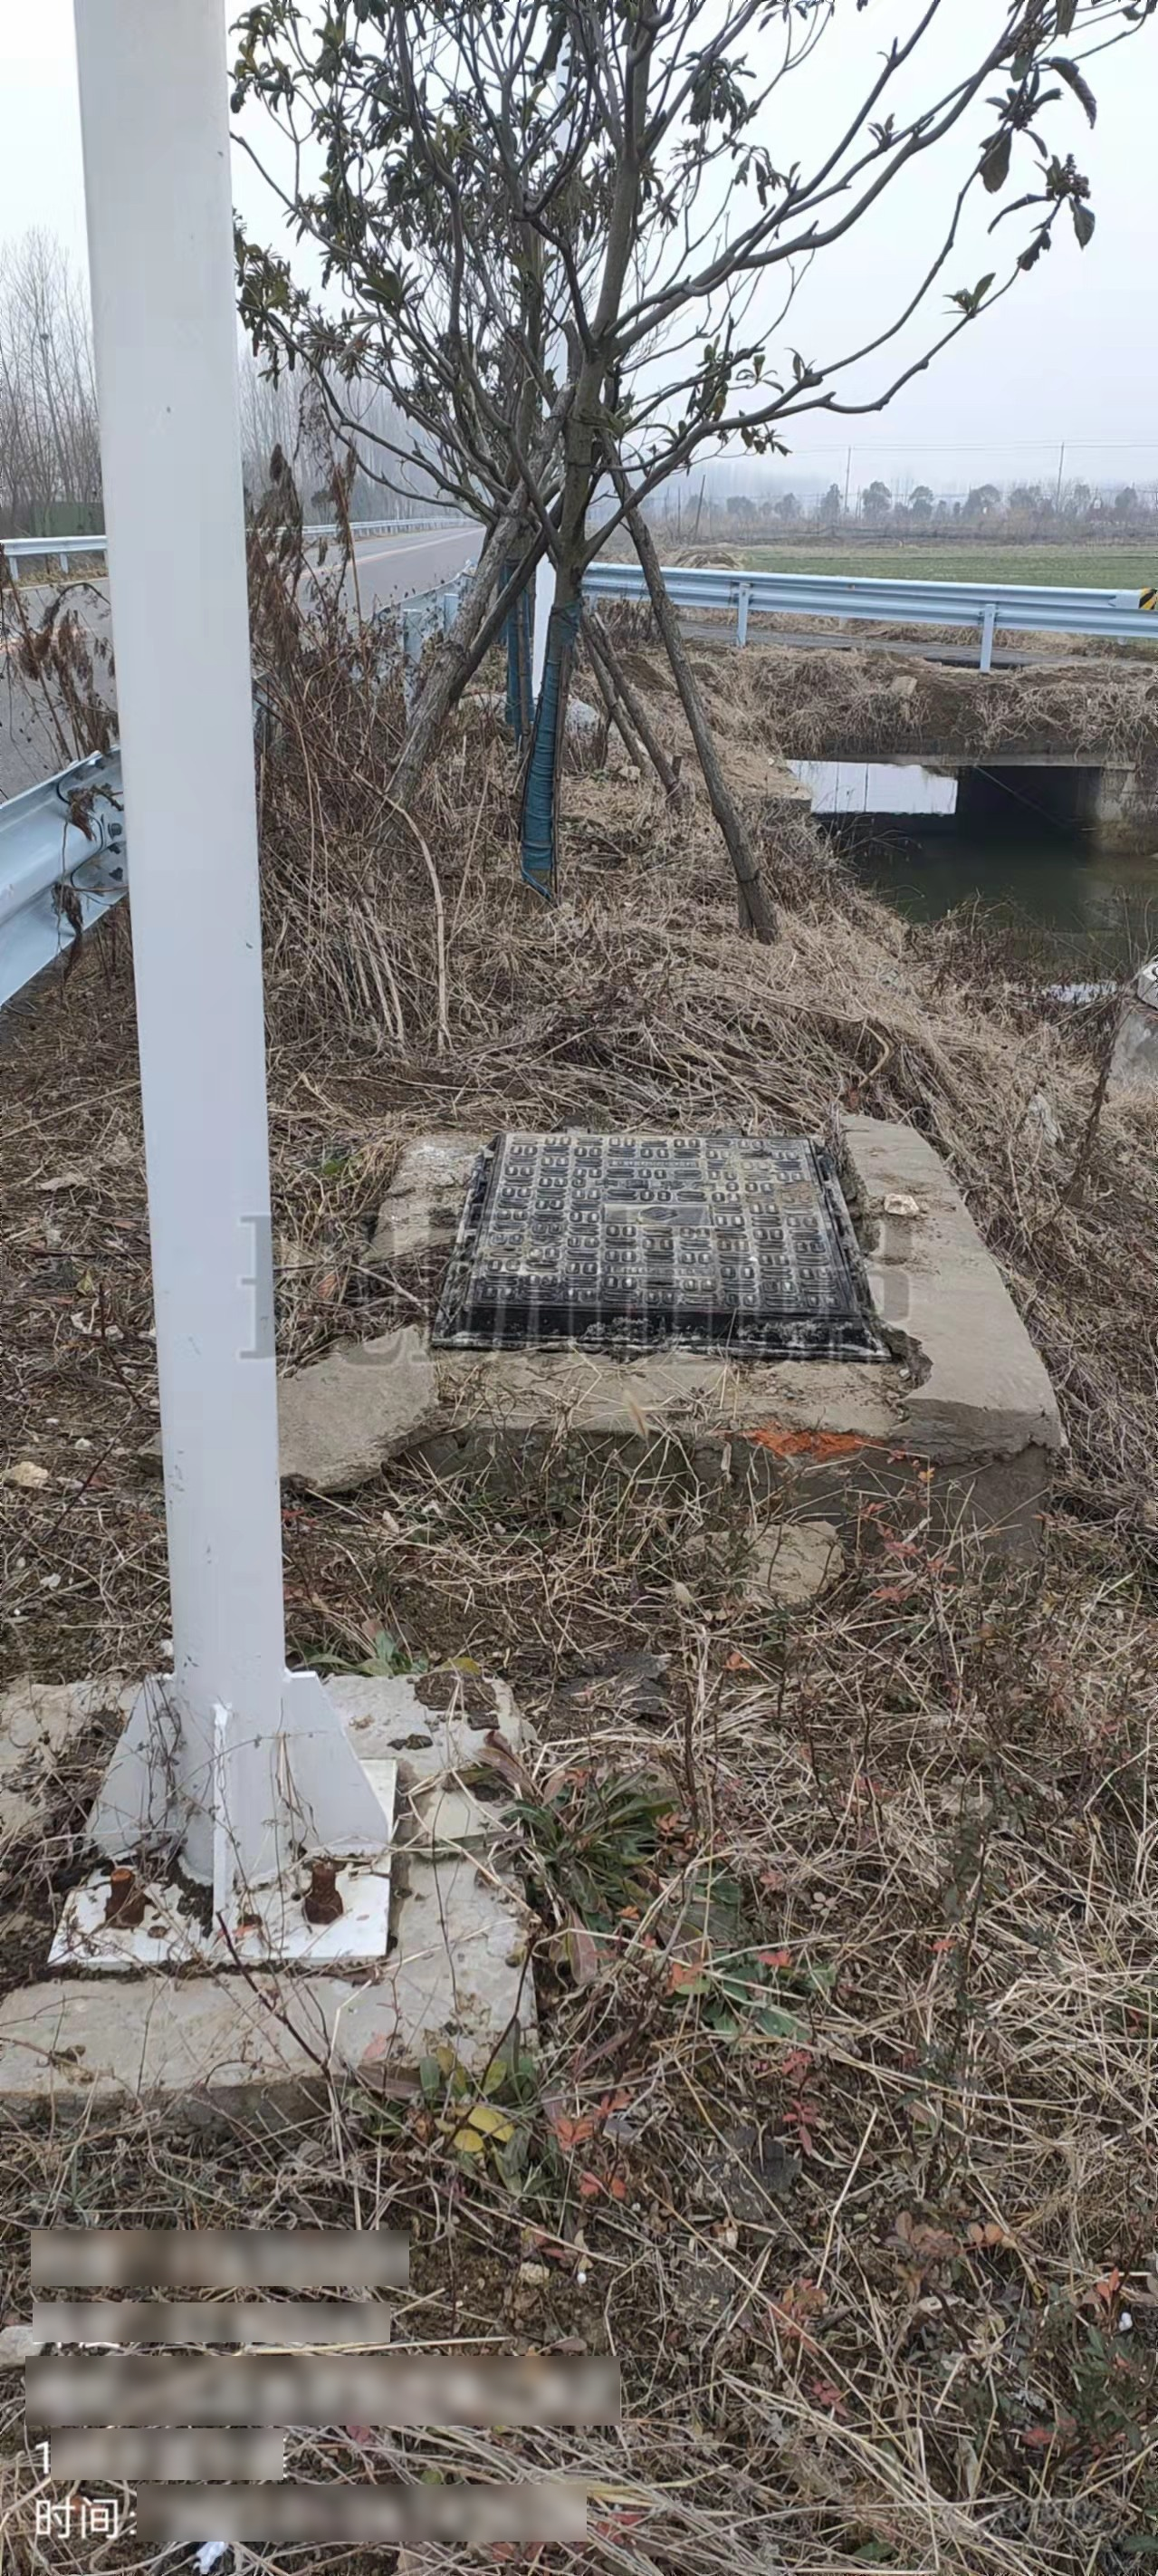good: (445, 1092, 907, 1367)
